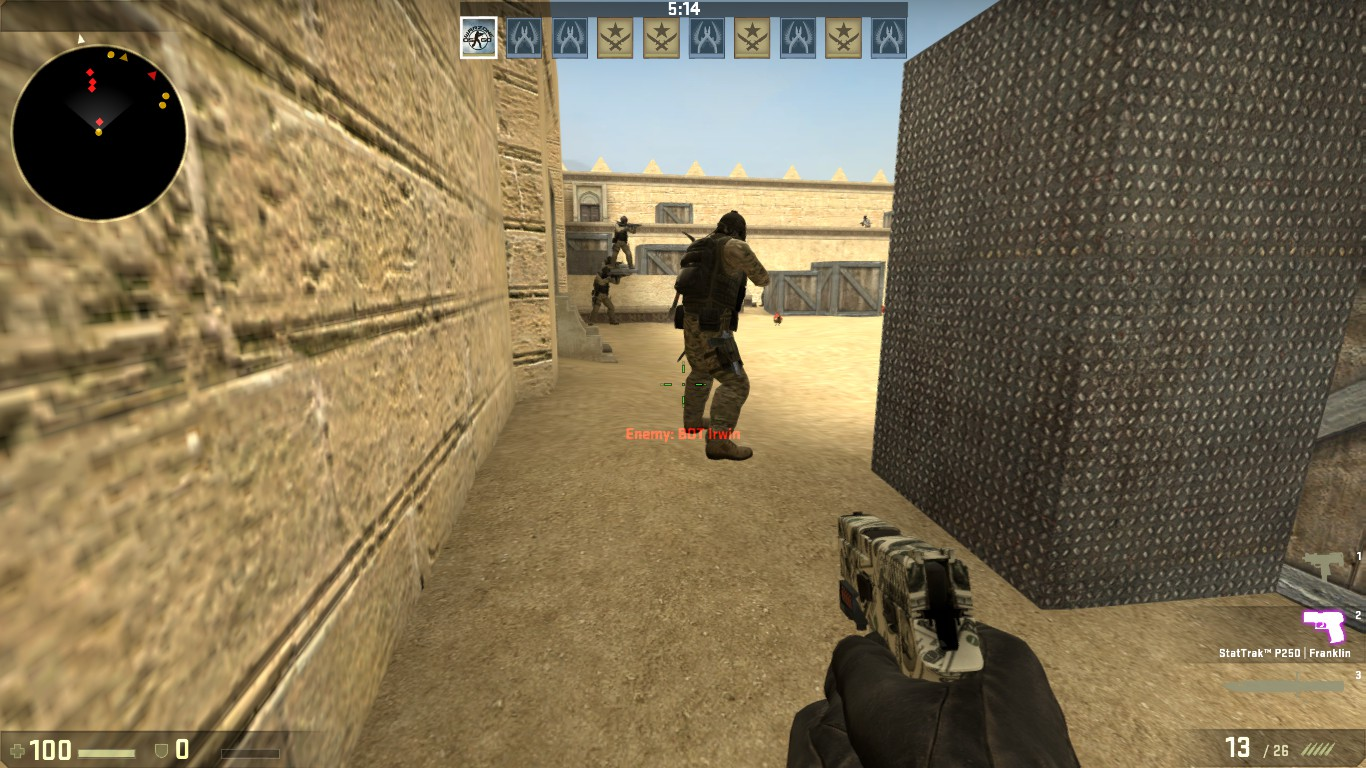c: (676, 208, 758, 460), (591, 266, 615, 325), (611, 215, 632, 270)
ch: (712, 208, 751, 242), (599, 267, 610, 281), (618, 216, 630, 226)
t: (859, 215, 872, 227)
